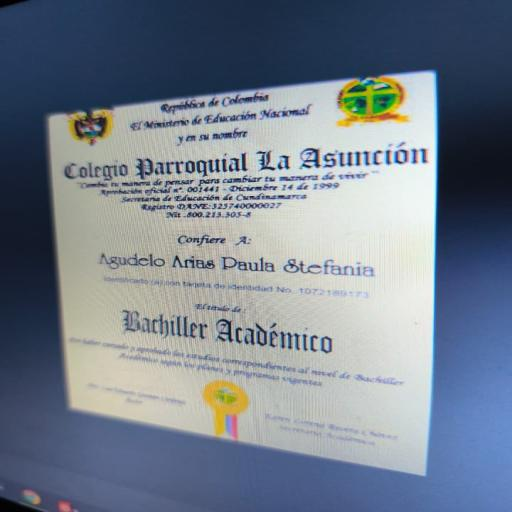bachillerato: (107, 295, 344, 360)
diploma: (55, 72, 443, 475)
escudo: (59, 108, 147, 151)
institucion: (64, 140, 441, 183)
nombre: (95, 247, 384, 279)
